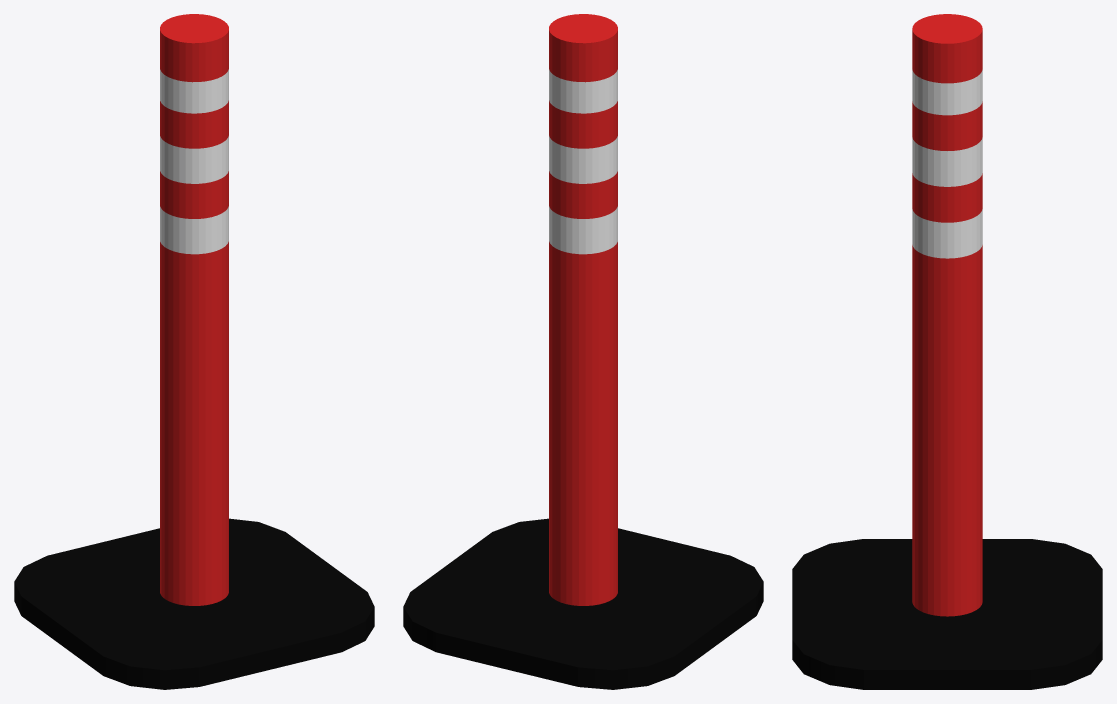
File: trafficPost.fbx
3 renders of one model, left to right at view 1: azimuth 30°, elevation 25°; view 2: azimuth 150°, elevation 25°; view 3: azimuth 270°, elevation 25°, orthographic.
Visible parts, largest first — view 1: Plane.005; view 2: Plane.005; view 3: Plane.005.
Part boxes in pixels (left/top/right/bottom): Plane.005: left=14, top=14, right=374, bottom=689; Plane.005: left=403, top=14, right=763, bottom=689; Plane.005: left=792, top=14, right=1102, bottom=689.
Bounding box in the file's own units: 129 × 273 × 129.
